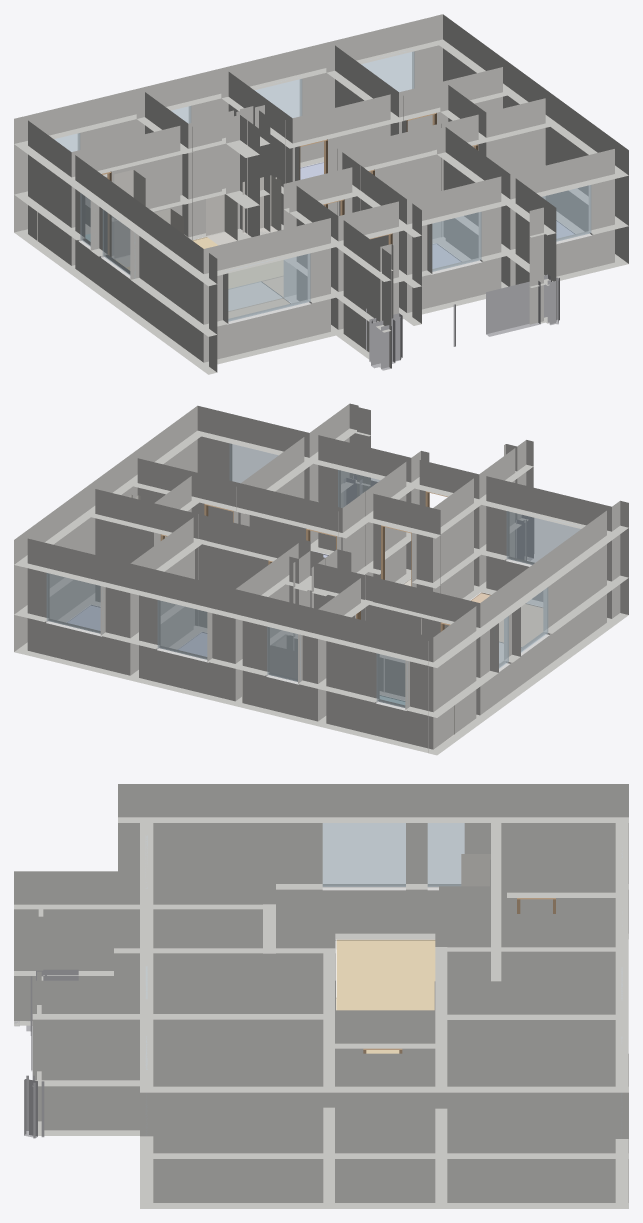
3 views of the same model, one above another, from view 1: azimuth 30°, elevation 25°; view 2: azimuth 150°, elevation 25°; view 3: azimuth 270°, elevation 25° (orthographic). The views are drawn at different scales.
Visible parts, largest first — view 1: walls, railings, window_7, window_2, window_0, furniture_7_appliance, window_4, furniture_0_closet, window_1, window_3, floor_4_Kitchen, floor_7_Undefined (+3 smaller); view 2: walls, window_1, window_7, window_3, window_9, window_6, window_4, window_0, railings, floor_5_Living_Room, window_2, furniture_11_sauna_bench (+1 smaller); view 3: walls, floor_4_Kitchen, window_4, window_16, railings, furniture_0_closet.
Boxes of the visible parts, x1,y1,x2,y2 form: walls: (14,14,628,374); railings: (366,274,559,370); window_7: (226,253,310,321); window_2: (429,209,481,271); window_0: (542,185,591,241); furniture_7_appliance: (206,194,237,245); window_4: (102,209,135,277); furniture_0_closet: (114,169,145,266); window_1: (361,49,414,91); window_3: (255,77,302,117); floor_4_Kitchen: (115,237,283,288); floor_7_Undefined: (228,281,282,310); walls: (14,403,628,755); window_1: (46,573,100,633); window_7: (506,508,580,564); window_3: (157,600,207,659); window_9: (267,627,300,681); window_6: (376,653,407,707); window_4: (521,587,548,652); window_0: (229,443,278,483); railings: (344,475,533,560); floor_5_Living_Room: (470,592,542,646); window_2: (338,470,379,507); furniture_11_sauna_bench: (242,645,297,702); walls: (14,784,628,1208); floor_4_Kitchen: (336,939,435,1053); window_4: (322,823,405,886); window_16: (427,823,464,886); railings: (14,969,78,1138); furniture_0_closet: (461,854,490,886).
Bounding box in the file's own units: 10.65 × 2.72 × 10.06.
